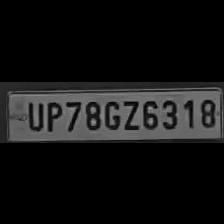1: (179, 96, 197, 128)
3: (158, 95, 178, 129)
6: (140, 96, 158, 130)
7: (62, 97, 82, 131)
8: (82, 96, 102, 130), (197, 95, 217, 127)
G: (101, 96, 119, 130)
P: (43, 98, 63, 132)
U: (23, 98, 43, 130)
Z: (121, 96, 139, 130)
